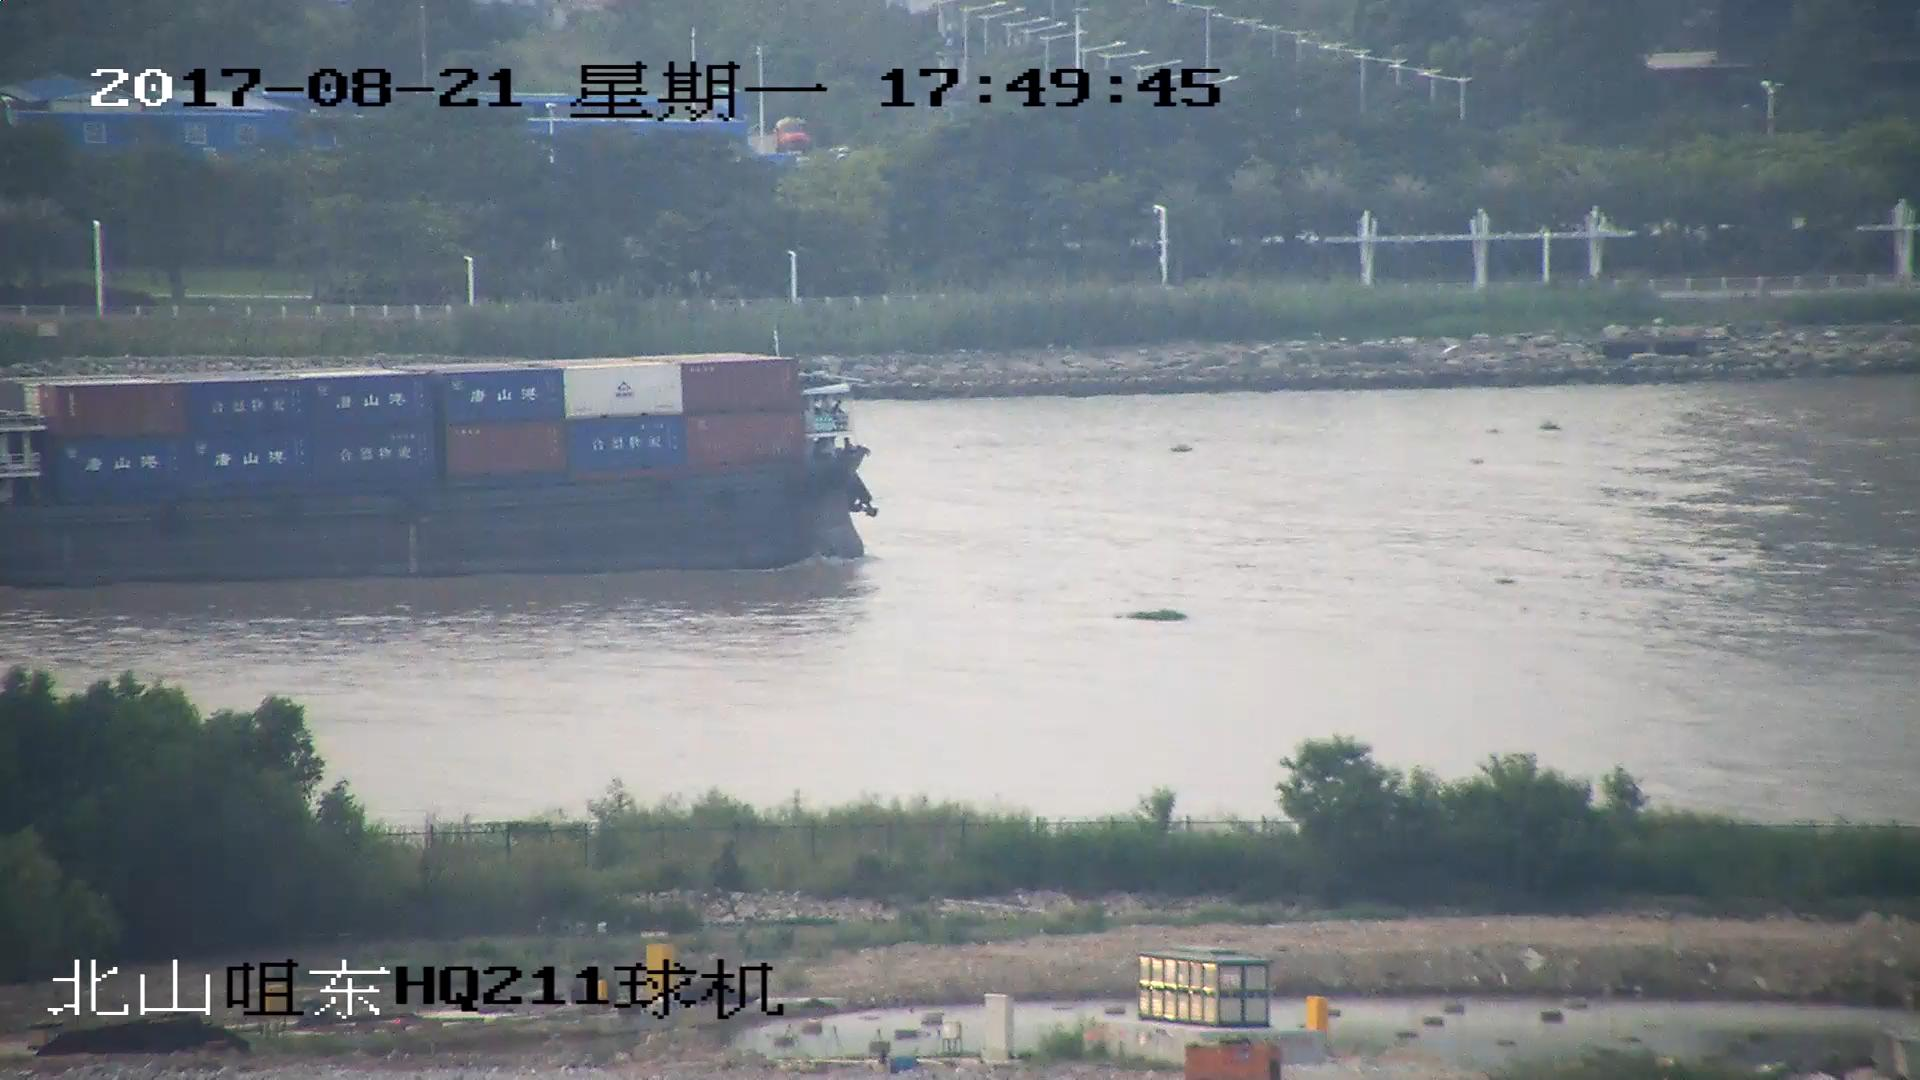container ship: (1, 349, 864, 576)
